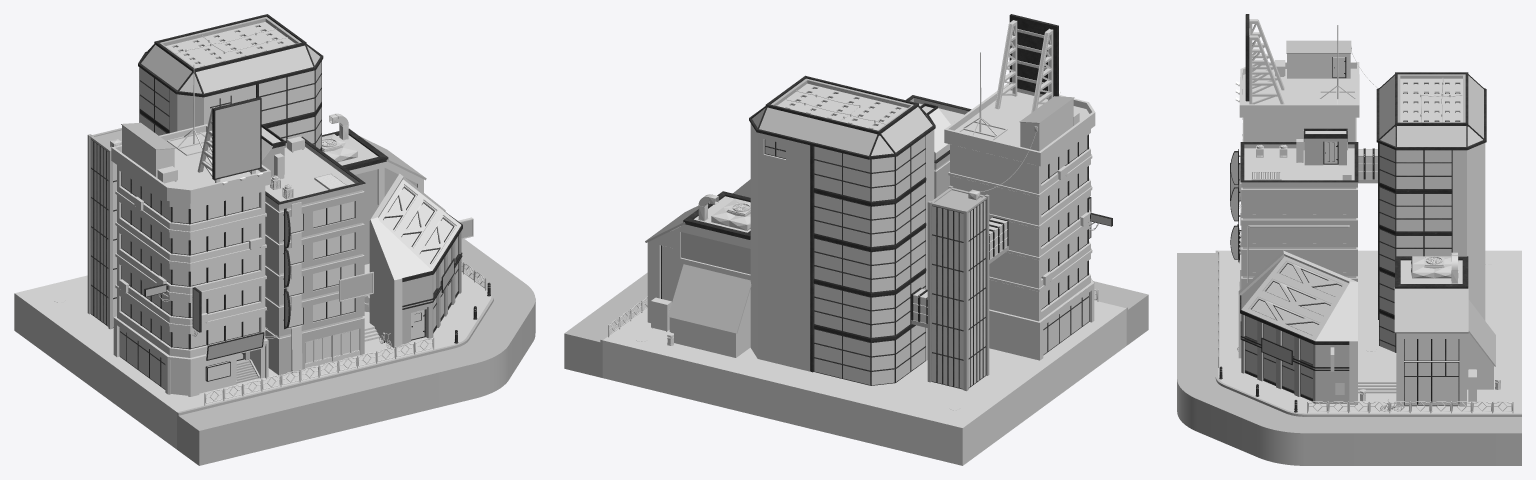
File: KB3D_NTT_BldgSM_C.fbx
The picture shows the model from 3 angles, left to right: view 1: azimuth 30°, elevation 25°; view 2: azimuth 150°, elevation 25°; view 3: azimuth 270°, elevation 25°; orthographic projection. The views are drawn at different scales.
Visible parts, largest first — view 1: KB3D_NTT_BldgSM_C_Main, KB3D_NTT_BldgSM_C_BuildingA, KB3D_NTT_BldgSM_C_BuildingB, KB3D_NTT_BldgSM_C_BuildingD, KB3D_NTT_BldgSM_C_BuildingC, KB3D_NTT_BldgSM_C_BuildingF, KB3D_NTT_BldgSM_C_BuildingE, KB3D_NTT_BldgSM_C_BillboardA, KB3D_NTT_BldgSM_C_BuildingG; view 2: KB3D_NTT_BldgSM_C_BuildingD, KB3D_NTT_BldgSM_C_Main, KB3D_NTT_BldgSM_C_BuildingA, KB3D_NTT_BldgSM_C_BuildingE, KB3D_NTT_BldgSM_C_BuildingF, KB3D_NTT_BldgSM_C_BillboardA, KB3D_NTT_BldgSM_C_BuildingB, KB3D_NTT_BldgSM_C_BridgeB, KB3D_NTT_BldgSM_C_BuildingG, KB3D_NTT_BldgSM_C_BridgeA; view 3: KB3D_NTT_BldgSM_C_Main, KB3D_NTT_BldgSM_C_BuildingD, KB3D_NTT_BldgSM_C_BuildingC, KB3D_NTT_BldgSM_C_BuildingB, KB3D_NTT_BldgSM_C_BuildingE, KB3D_NTT_BldgSM_C_BuildingA, KB3D_NTT_BldgSM_C_BillboardA, KB3D_NTT_BldgSM_C_BuildingG, KB3D_NTT_BldgSM_C_BridgeB.
Part boxes in pixels (x1,y1,x2,y2): KB3D_NTT_BldgSM_C_Main: [14, 239, 535, 465]; KB3D_NTT_BldgSM_C_BuildingA: [111, 64, 270, 396]; KB3D_NTT_BldgSM_C_BuildingB: [265, 136, 373, 375]; KB3D_NTT_BldgSM_C_BuildingD: [138, 14, 323, 150]; KB3D_NTT_BldgSM_C_BuildingC: [364, 173, 473, 348]; KB3D_NTT_BldgSM_C_BuildingF: [87, 128, 121, 329]; KB3D_NTT_BldgSM_C_BuildingE: [322, 113, 426, 264]; KB3D_NTT_BldgSM_C_BillboardA: [197, 97, 261, 182]; KB3D_NTT_BldgSM_C_BuildingG: [261, 124, 285, 178]; KB3D_NTT_BldgSM_C_BuildingD: [749, 75, 935, 385]; KB3D_NTT_BldgSM_C_Main: [564, 272, 1148, 465]; KB3D_NTT_BldgSM_C_BuildingA: [944, 52, 1112, 360]; KB3D_NTT_BldgSM_C_BuildingE: [645, 191, 751, 357]; KB3D_NTT_BldgSM_C_BuildingF: [927, 185, 989, 391]; KB3D_NTT_BldgSM_C_BillboardA: [995, 14, 1058, 112]; KB3D_NTT_BldgSM_C_BuildingB: [906, 95, 971, 198]; KB3D_NTT_BldgSM_C_BridgeB: [989, 217, 1008, 263]; KB3D_NTT_BldgSM_C_BuildingG: [920, 103, 950, 160]; KB3D_NTT_BldgSM_C_BridgeA: [911, 287, 927, 327]; KB3D_NTT_BldgSM_C_Main: [1177, 250, 1521, 465]; KB3D_NTT_BldgSM_C_BuildingD: [1376, 72, 1486, 352]; KB3D_NTT_BldgSM_C_BuildingC: [1237, 250, 1365, 404]; KB3D_NTT_BldgSM_C_BuildingB: [1230, 142, 1358, 289]; KB3D_NTT_BldgSM_C_BuildingE: [1394, 252, 1500, 406]; KB3D_NTT_BldgSM_C_BuildingA: [1230, 25, 1359, 262]; KB3D_NTT_BldgSM_C_BillboardA: [1245, 14, 1284, 104]; KB3D_NTT_BldgSM_C_BuildingG: [1296, 128, 1347, 165]; KB3D_NTT_BldgSM_C_BridgeB: [1358, 148, 1377, 183].
Size of the model in its own units: 3386 by 2549 by 2677.
